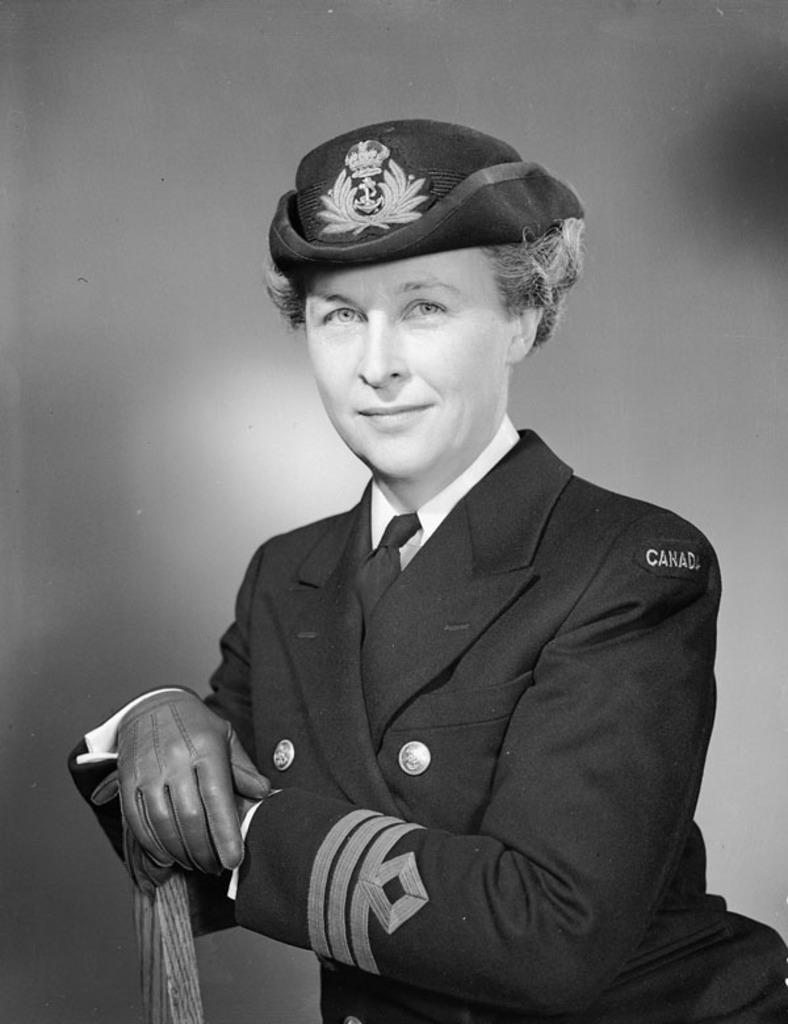Hat: (264, 116, 582, 268)
